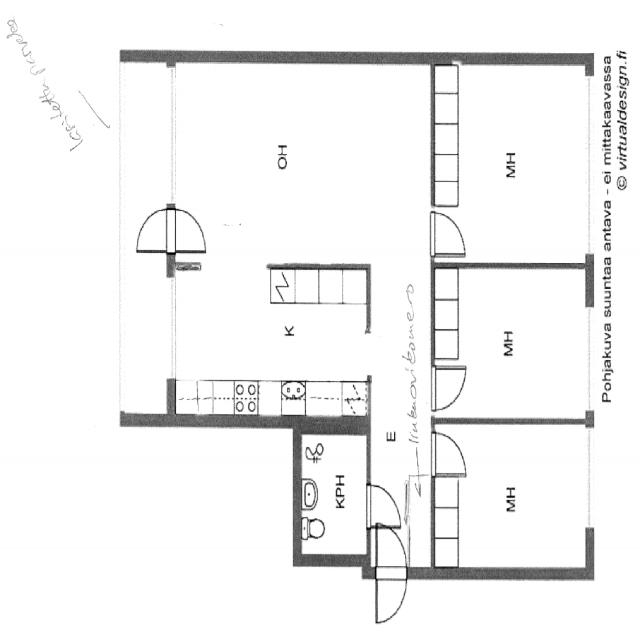door: (129, 200, 189, 255), (425, 202, 474, 262), (425, 358, 472, 416), (162, 204, 210, 254), (428, 427, 472, 481), (360, 482, 405, 530)
window: (579, 136, 600, 263), (579, 296, 599, 422), (166, 57, 182, 214), (580, 421, 599, 536), (162, 269, 180, 387)
zone: (175, 62, 435, 265), (432, 56, 592, 270), (172, 261, 372, 420), (429, 262, 593, 423), (432, 418, 592, 580), (295, 422, 369, 563), (368, 521, 411, 628), (360, 482, 406, 532)
